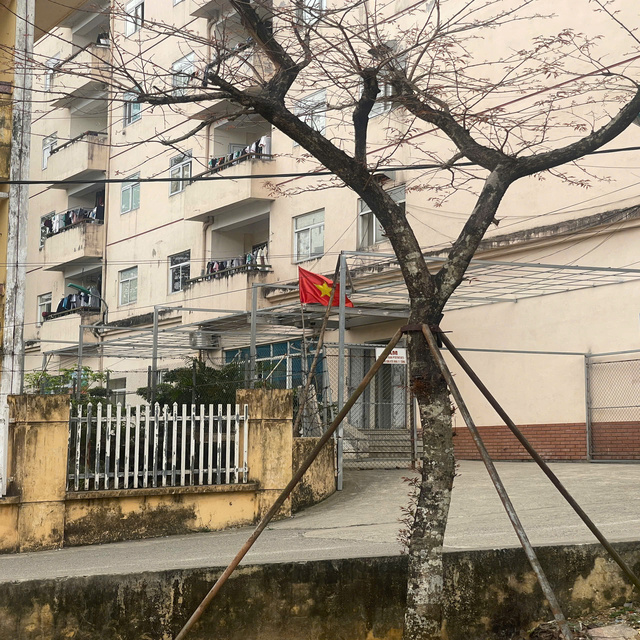laco: (293, 263, 350, 316)
